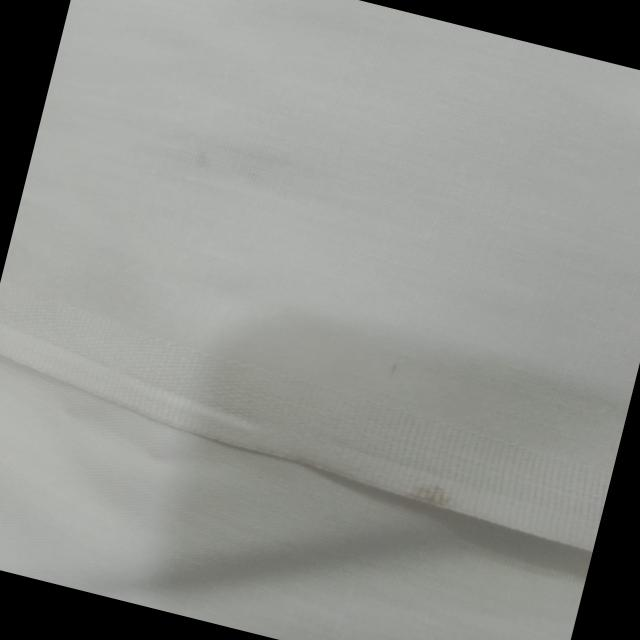stain: (380, 459, 484, 534)
